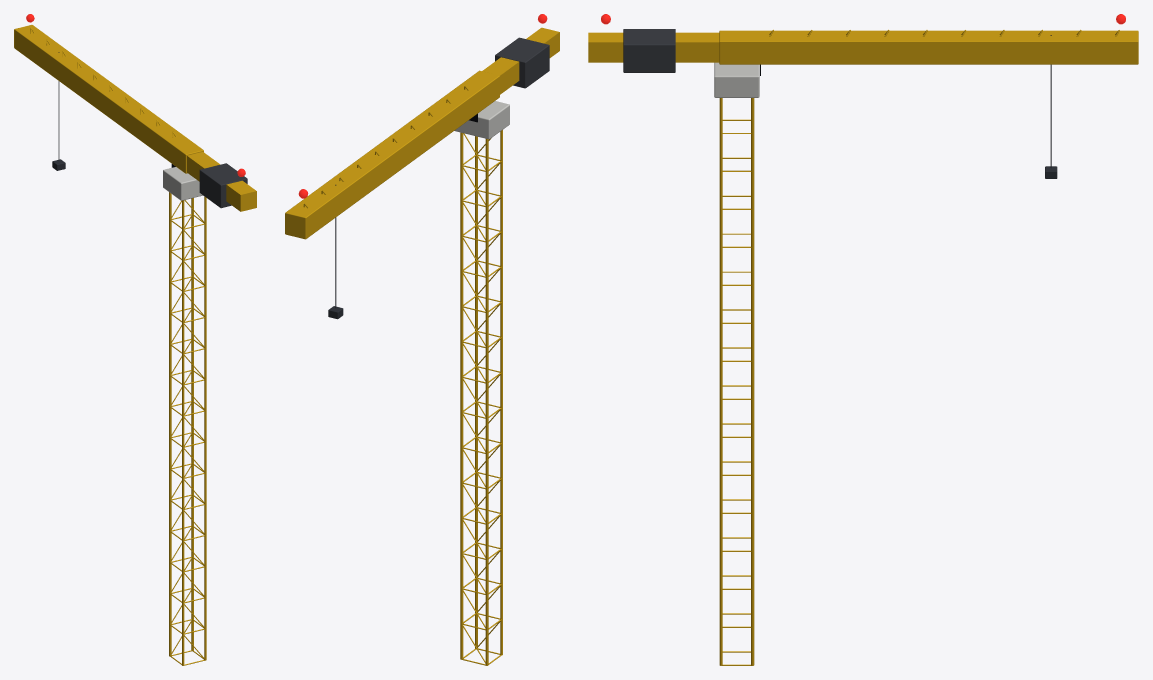
The model's file is setpiece_crane.glb.
3 renders of one model, left to right at view 1: azimuth 30°, elevation 25°; view 2: azimuth 150°, elevation 25°; view 3: azimuth 270°, elevation 25°, orthographic. The views are drawn at different scales.
Visible parts, largest first — view 1: TowerCrane; view 2: TowerCrane; view 3: TowerCrane.
Part boxes in pixels (x1,y1,x2,y2): TowerCrane: (14, 14, 256, 665); TowerCrane: (285, 14, 559, 665); TowerCrane: (588, 14, 1138, 665).
Size of the model in its own units: 2.6 by 40.74 by 31.5.
